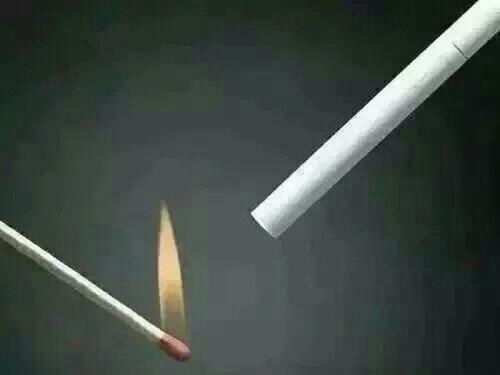fire: (152, 196, 188, 346)
